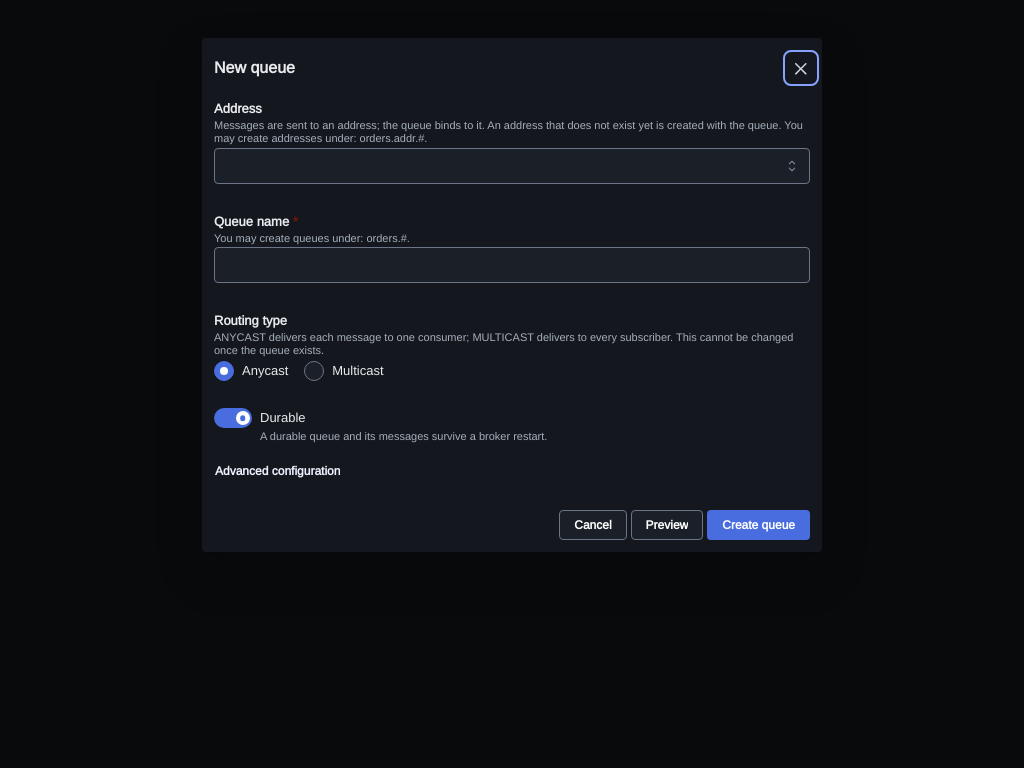
Scenario: CreateQueueForm › for a member of a team › checks the address against the address patterns, which may differ from the queue ones
expect the text "You may create addresses under: orders.addr.#." is shown: met, box [214,118,803,145]
Type "orders.in" into the field labelled "Address" at [512, 166], box [214,148,810,184]
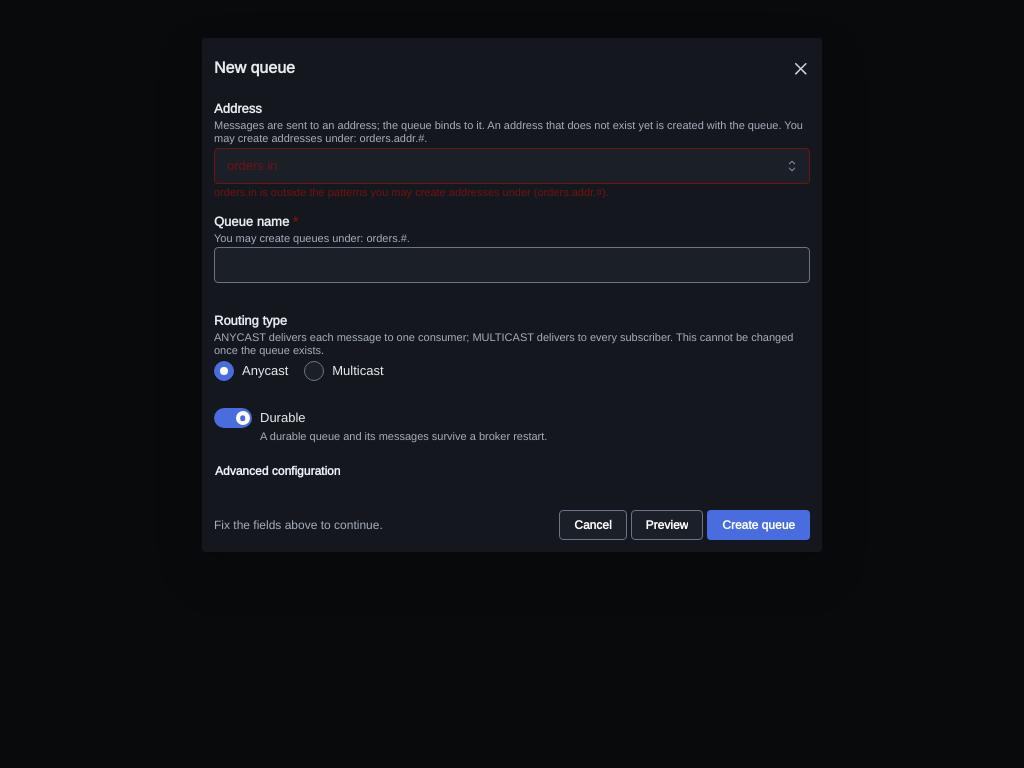
expect the text "orders.in is outside the patterns you may create addresses under" is shown: met, box [214,185,609,199]
